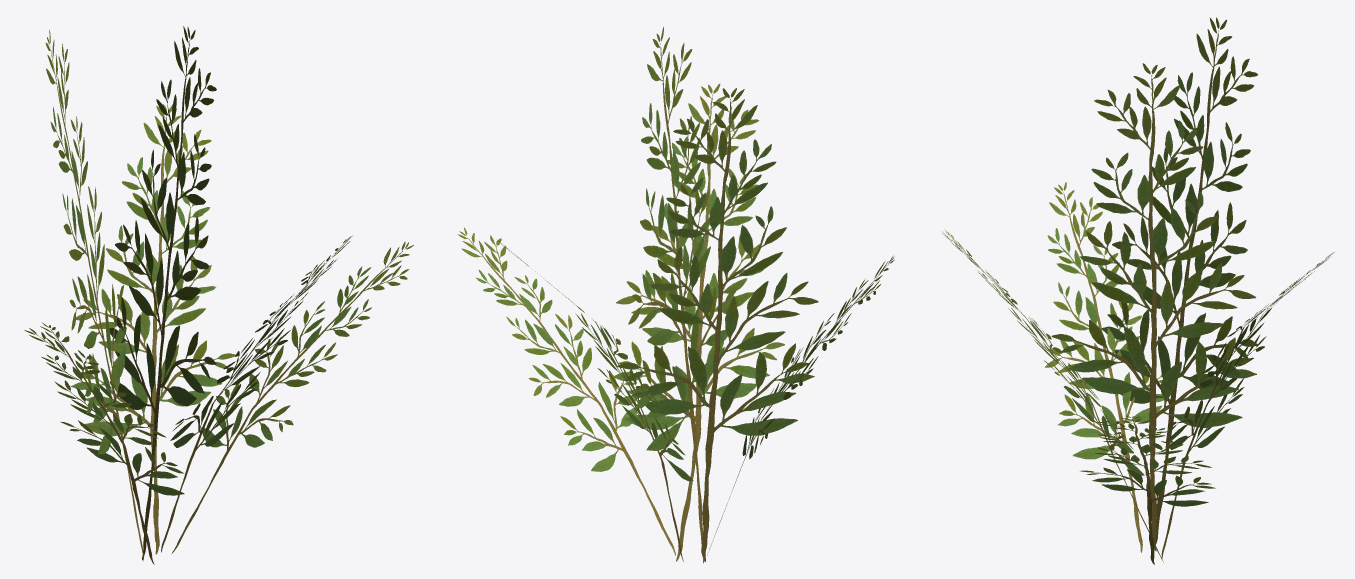
The model's file is SM_Plant_03.fbx.
3 views of the same model, side by side, from view 1: azimuth 30°, elevation 25°; view 2: azimuth 150°, elevation 25°; view 3: azimuth 270°, elevation 25° (orthographic). The views are drawn at different scales.
Visible parts, largest first — view 1: SM_Plant_03_LOD0; view 2: SM_Plant_03_LOD0; view 3: SM_Plant_03_LOD0.
Part boxes in pixels (box(x1,y1,x2,y2)): SM_Plant_03_LOD0: box(24, 26, 413, 564); SM_Plant_03_LOD0: box(457, 27, 894, 563); SM_Plant_03_LOD0: box(942, 17, 1334, 564).
Bounding box in the file's own units: 112 × 99.18 × 135.
